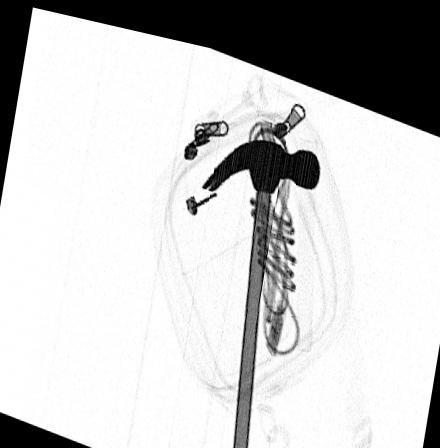Hammer: (198, 126, 321, 448)
